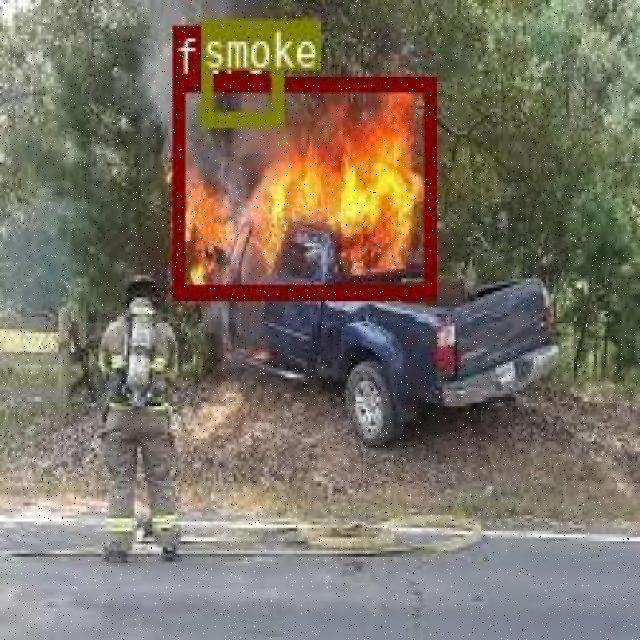Smoke: (203, 19, 277, 124)
